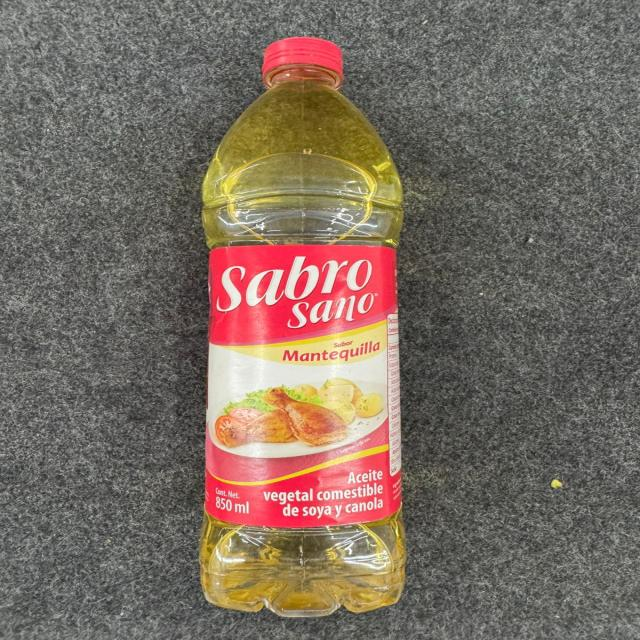Aceite Sabrosano 850ml: (192, 35, 420, 619)
